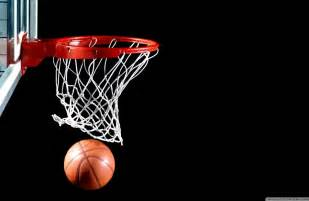basketball: (64, 139, 115, 190)
